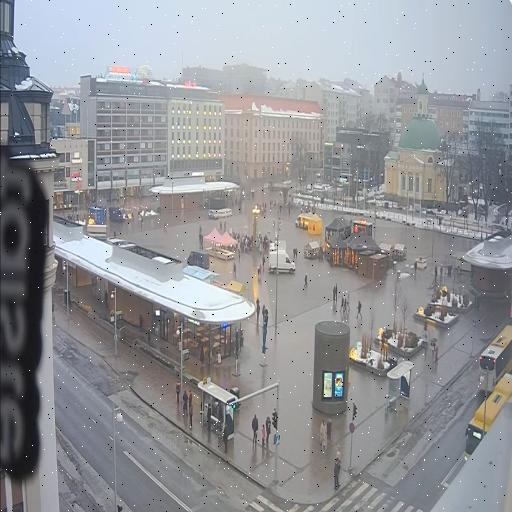Bus: (465, 374, 512, 458), (478, 325, 512, 393)
